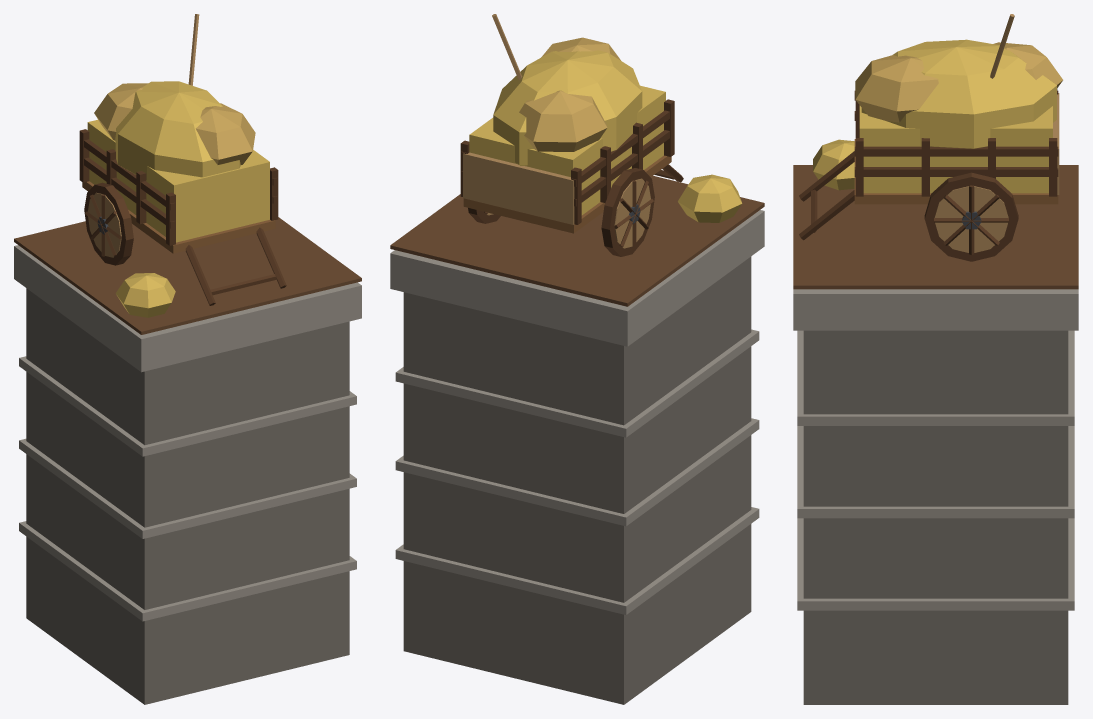
File: decor_hay_cart.glb
3 renders of one model, left to right at view 1: azimuth 30°, elevation 25°; view 2: azimuth 150°, elevation 25°; view 3: azimuth 270°, elevation 25°, orthographic. The views are drawn at different scales.
Visible parts, largest first — view 1: decor_hay_cart; view 2: decor_hay_cart; view 3: decor_hay_cart.
Boxes of the visible parts, <box> form: decor_hay_cart: <box>14,14,361,704</box>; decor_hay_cart: <box>390,14,764,704</box>; decor_hay_cart: <box>793,14,1078,704</box>.
Bounding box in the file's own units: 2.8 × 7.13 × 2.8.
